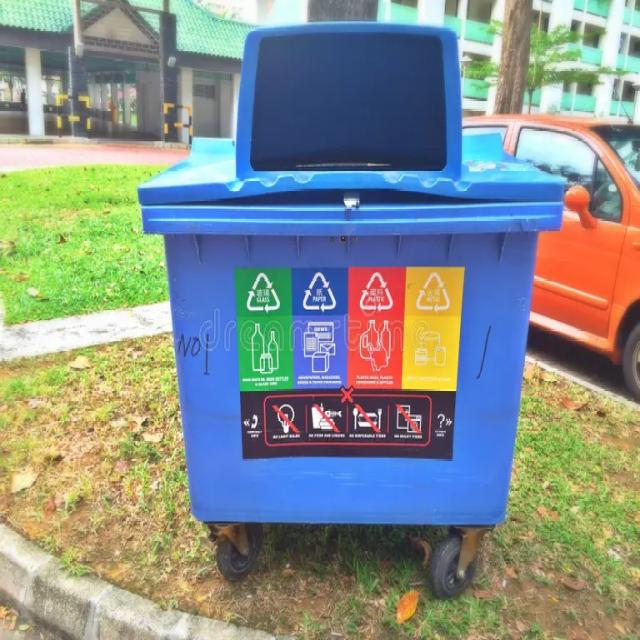bin_empty: (154, 22, 518, 566)
vehicle: (464, 115, 639, 399)
